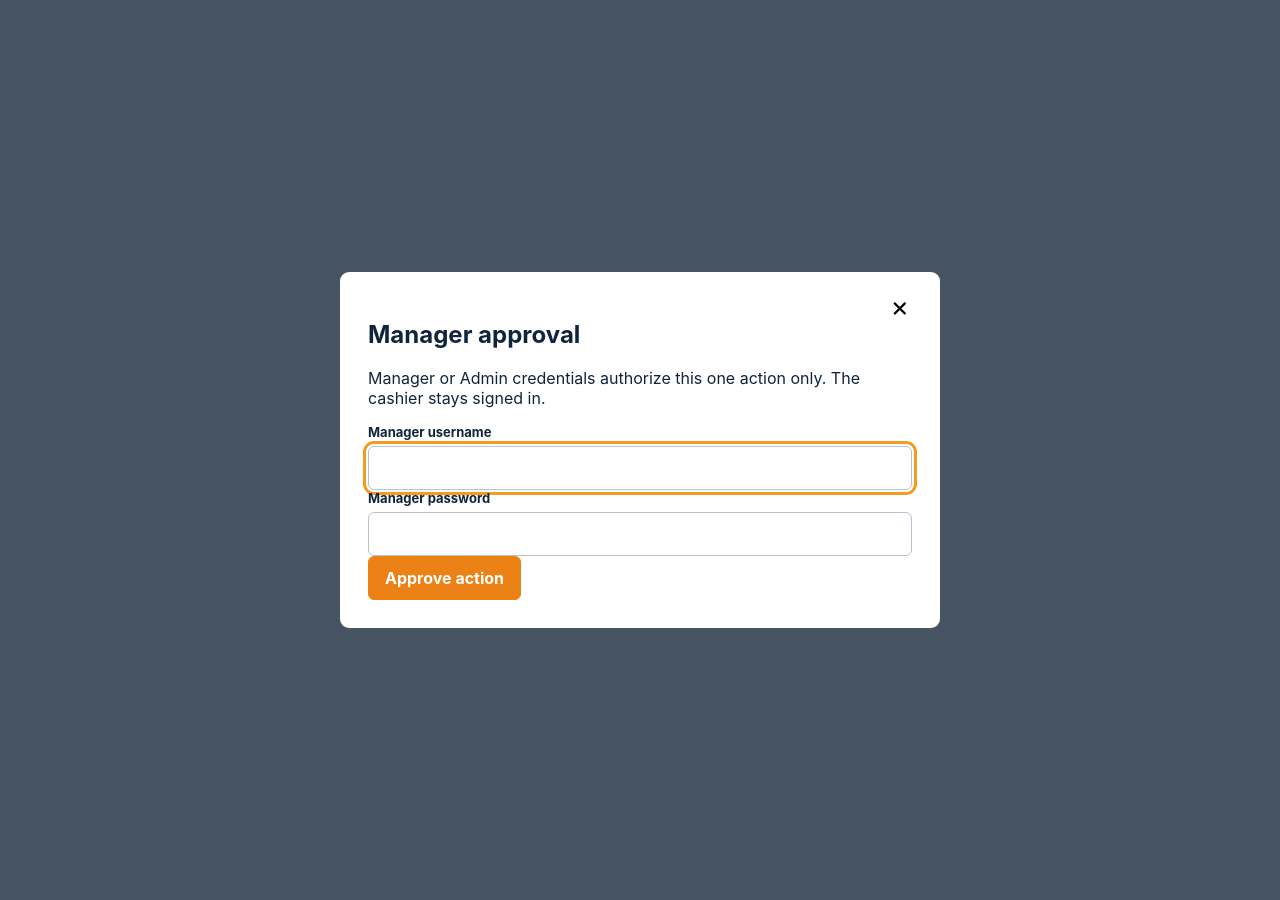
Test: management safeguards › keeps a failed manager approval visible with its backend error
This screenshot has width=1280, height=900.
Type "wrong" into the field labelled "Manager username" at (640,468), box top-left (368, 446), bottom-right (912, 490)
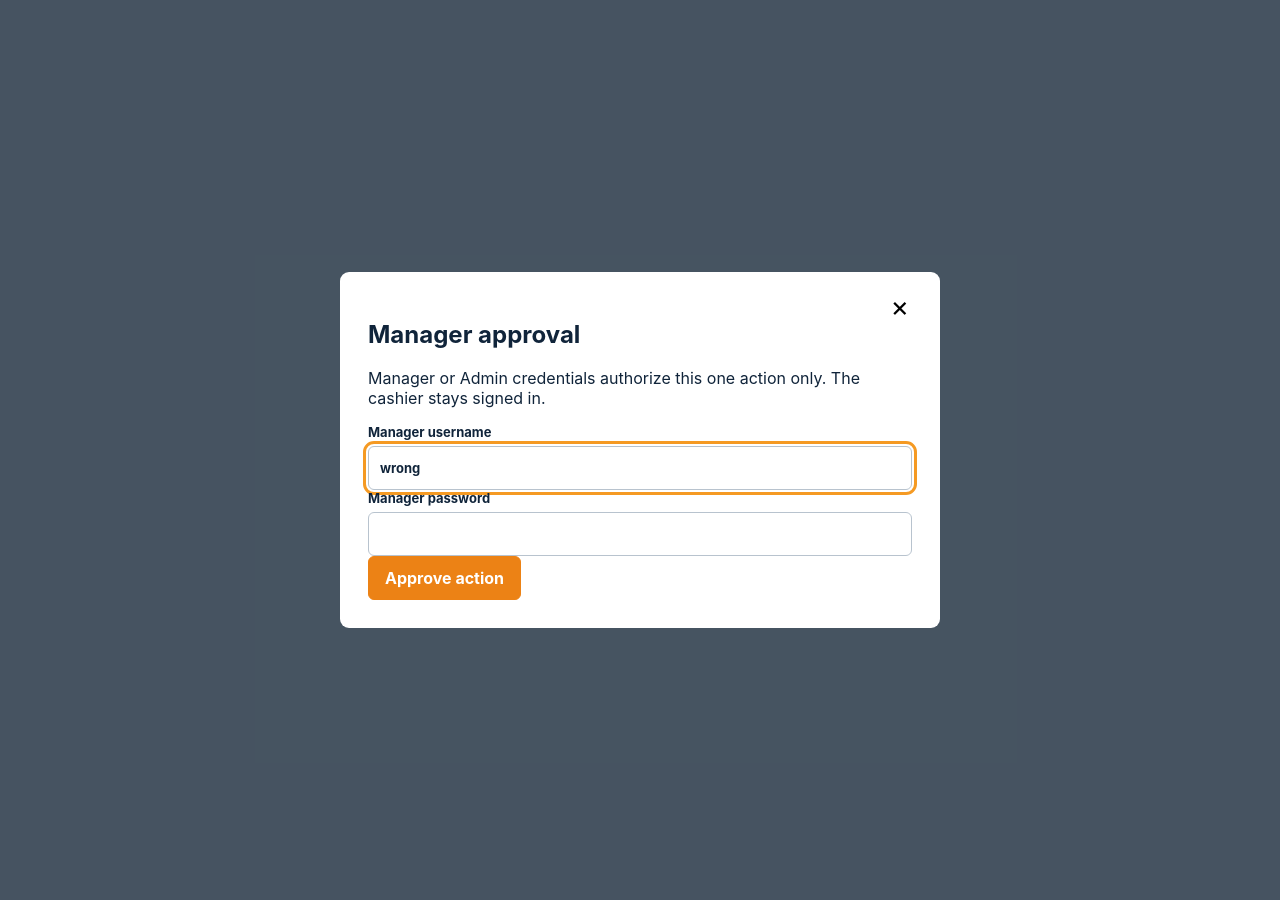
Type "wrong-password" into the password field labelled "Manager password" at (640,534), box top-left (368, 512), bottom-right (912, 556)
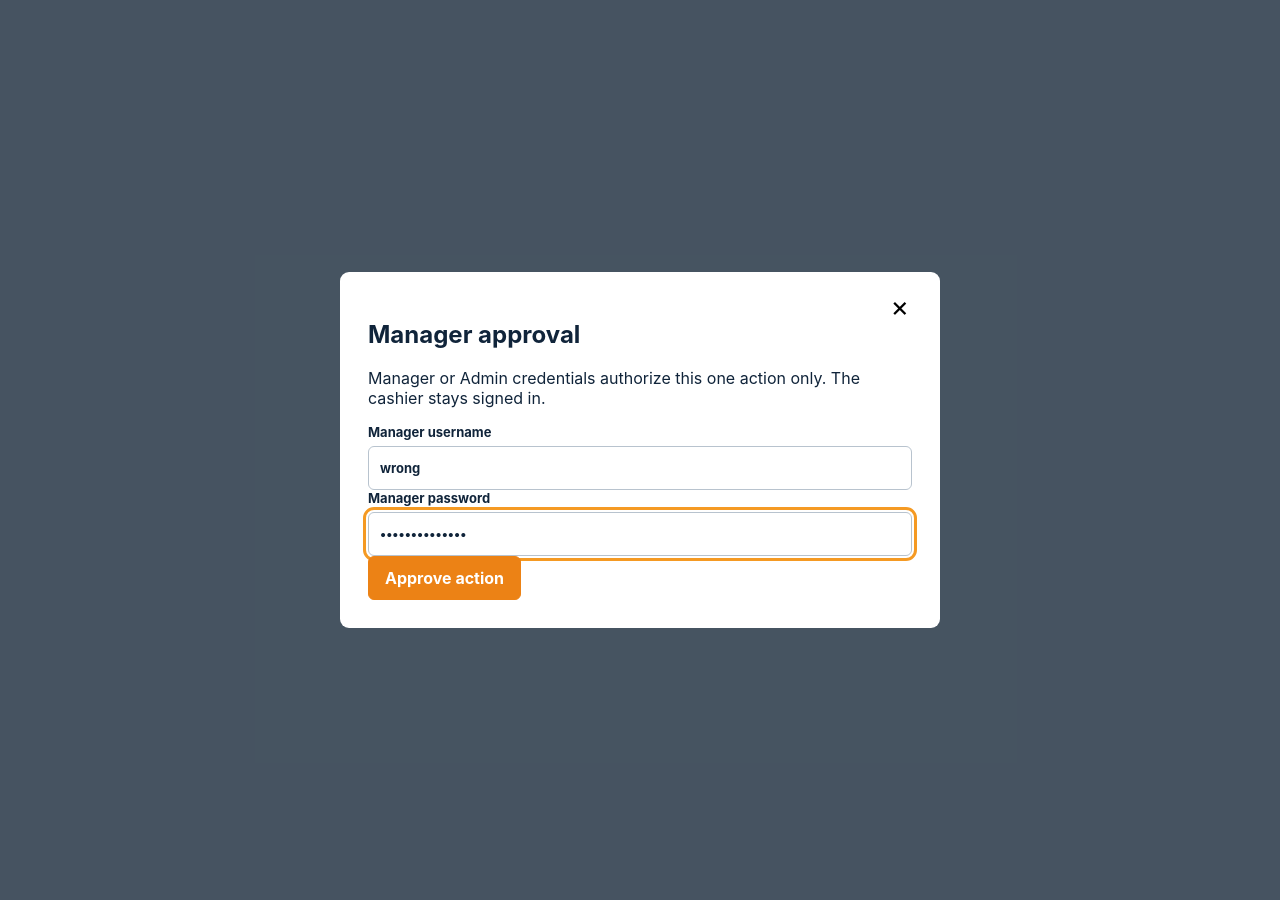
Click the button "Approve action" at (445,578), box top-left (368, 556), bottom-right (521, 600)
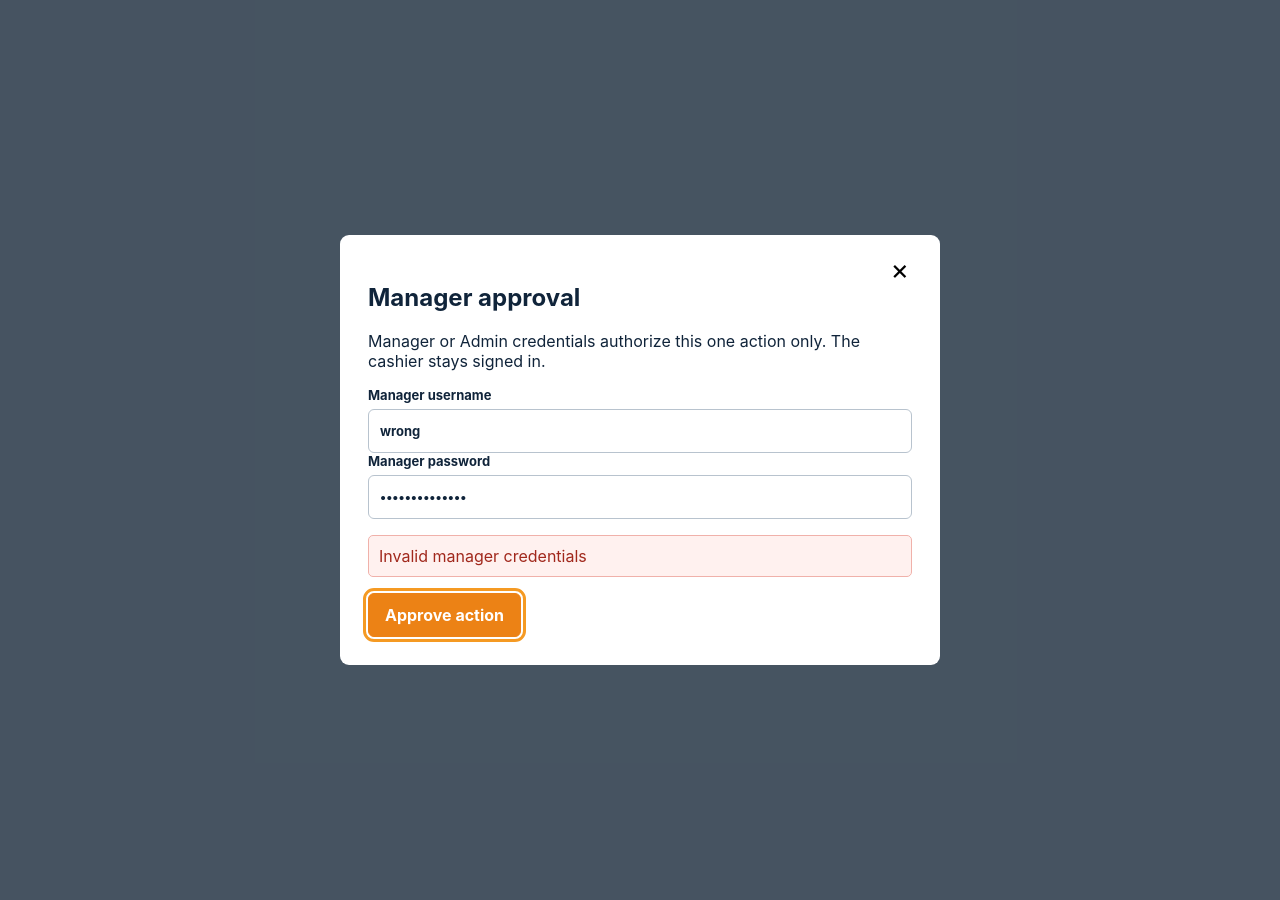
Result: the message reads "Invalid manager credentials" at top-left (379, 546), bottom-right (587, 566)
